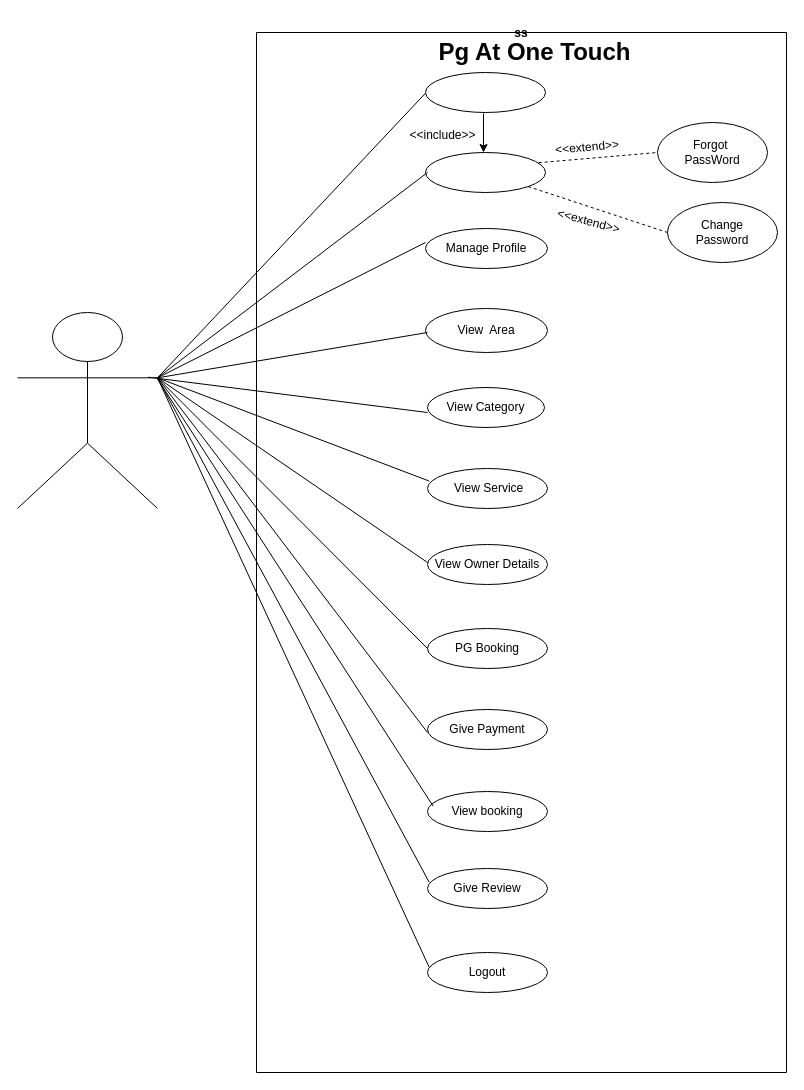
This 804x1090 diagram has some shape labels left out. Each missing label, with the centre of its shape:
Login: the point at 485,172
Registration: the point at 485,92
User: the point at 87,410
